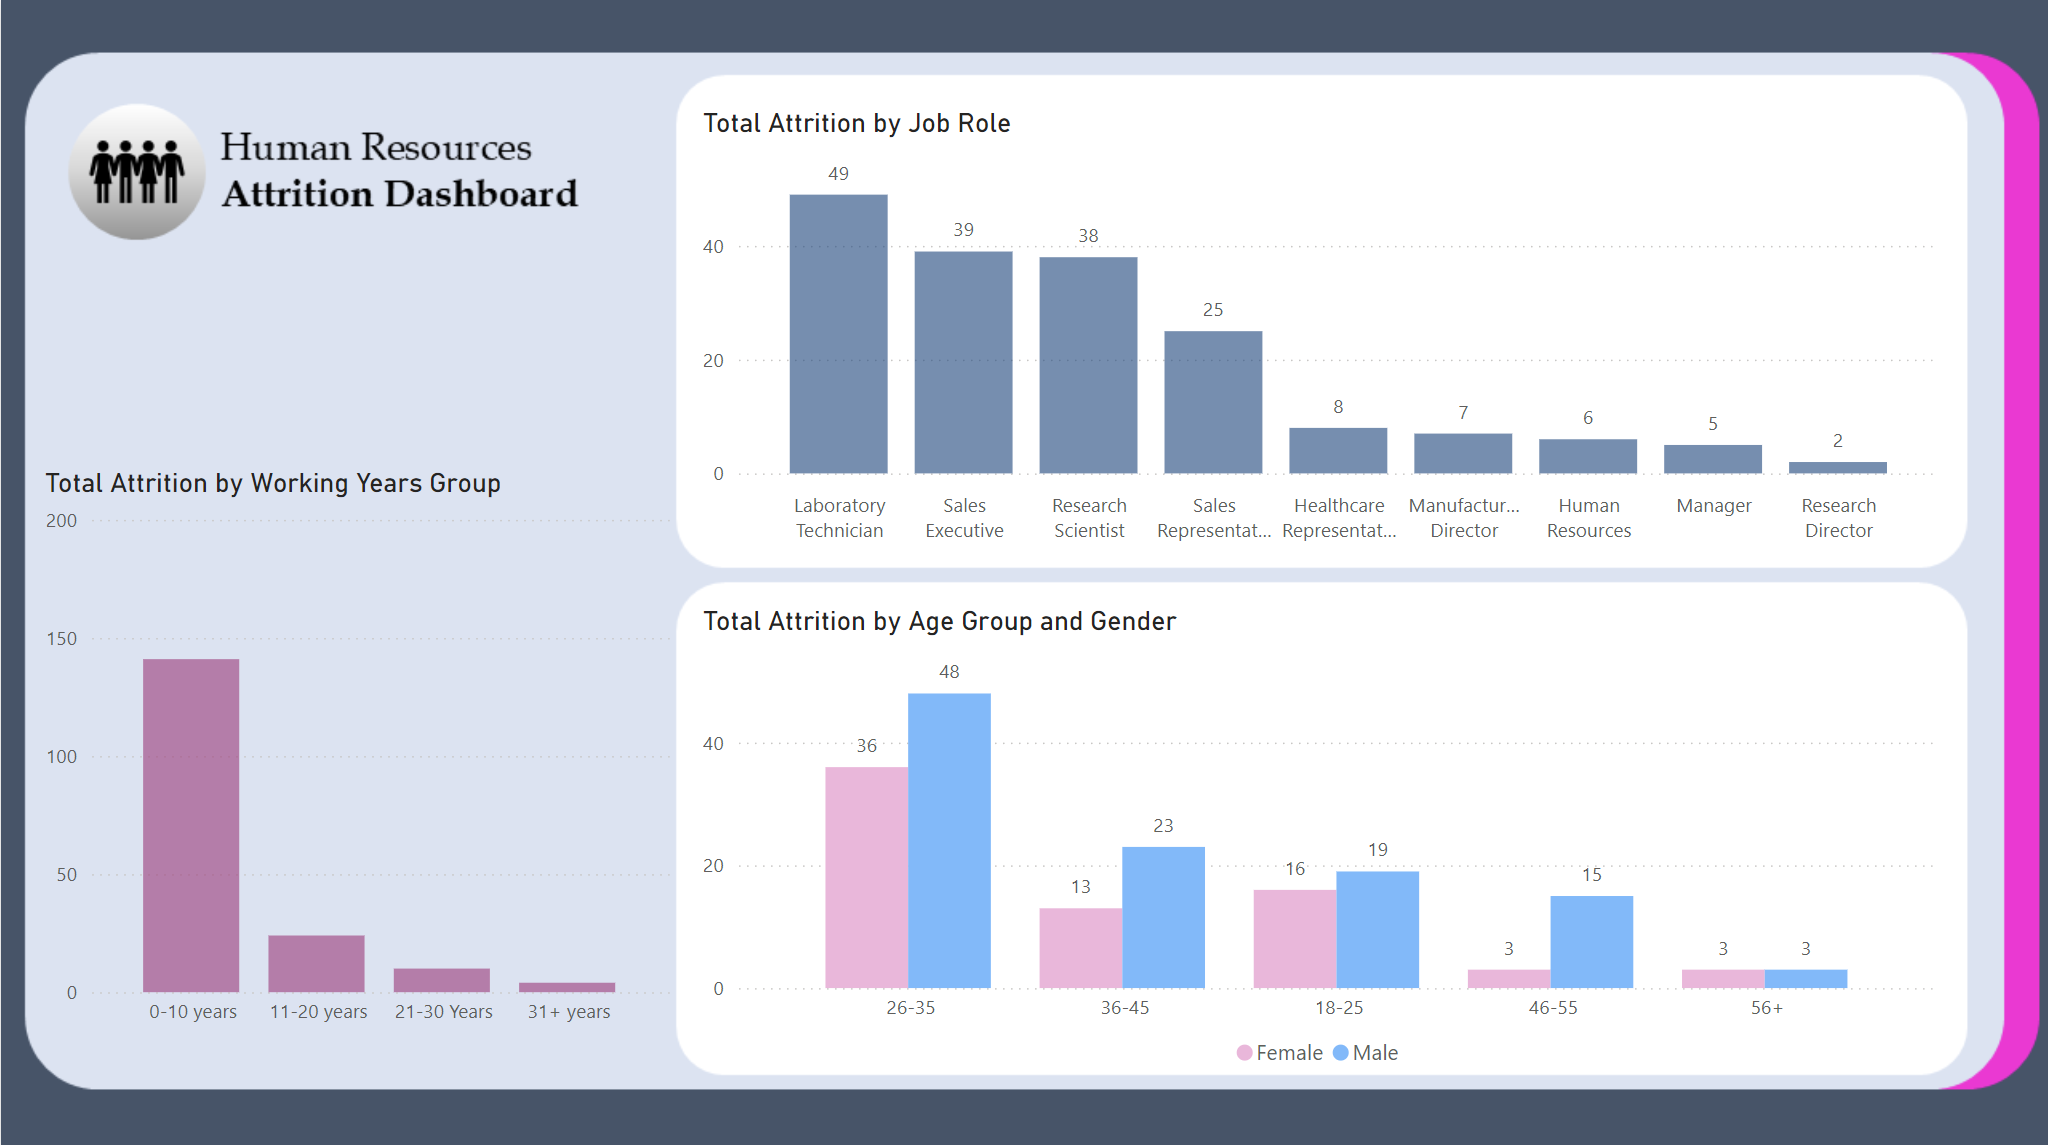

The dashboard page shown, as its layout file describes it:
{"tool":"powerbi","page":{"name":"Page 2","canvas":[1280,720],"ordinal":1},"visuals":[{"type":"columnChart","fields":{"Category":["cleaned (1).Job Role"],"Y":["All Measures.Total Attrition"]},"box":[434.1,67.8,761.2,280.2],"z":0},{"type":"columnChart","fields":{"Category":["cleaned (1).Working Years Group"],"Y":["All Measures.Total Attrition"]},"box":[22.9,292,400.3,358.2],"z":1000},{"type":"clusteredColumnChart","fields":{"Category":["cleaned (1).Age Group"],"Series":["cleaned (1).Gender"],"Y":["All Measures.Total Attrition"]},"box":[433.5,372.3,782.8,304.7],"z":2000}]}

Visuals, with their boxes in screenshot pixels (x1, y1, x2, y2), scaled from the page's 1280x720 canvas onto the 2048x1145 screenshot:
columnChart - cleaned (1).Job Role x All Measures.Total Attrition: (left=695, top=108, right=1912, bottom=553)
columnChart - cleaned (1).Working Years Group x All Measures.Total Attrition: (left=37, top=464, right=677, bottom=1034)
clusteredColumnChart - cleaned (1).Age Group x cleaned (1).Gender: (left=694, top=592, right=1946, bottom=1077)
